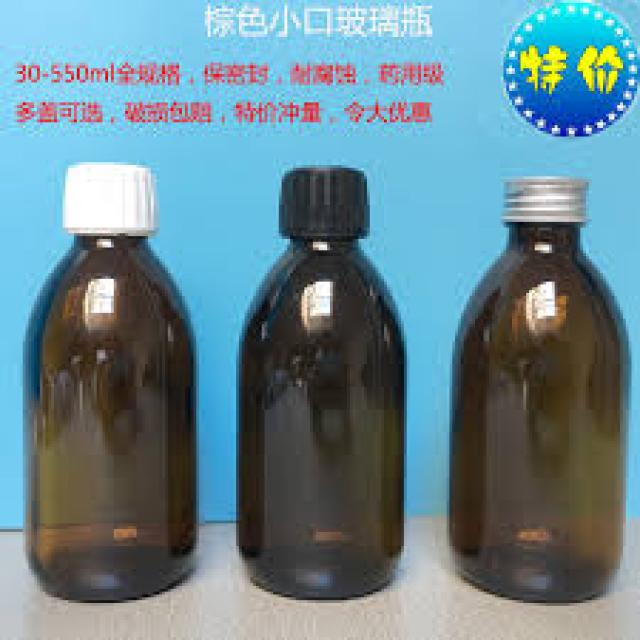Anorganik: (444, 222, 628, 603), (23, 233, 196, 600), (230, 239, 401, 597), (57, 160, 153, 233), (276, 165, 367, 242), (501, 171, 586, 219)
